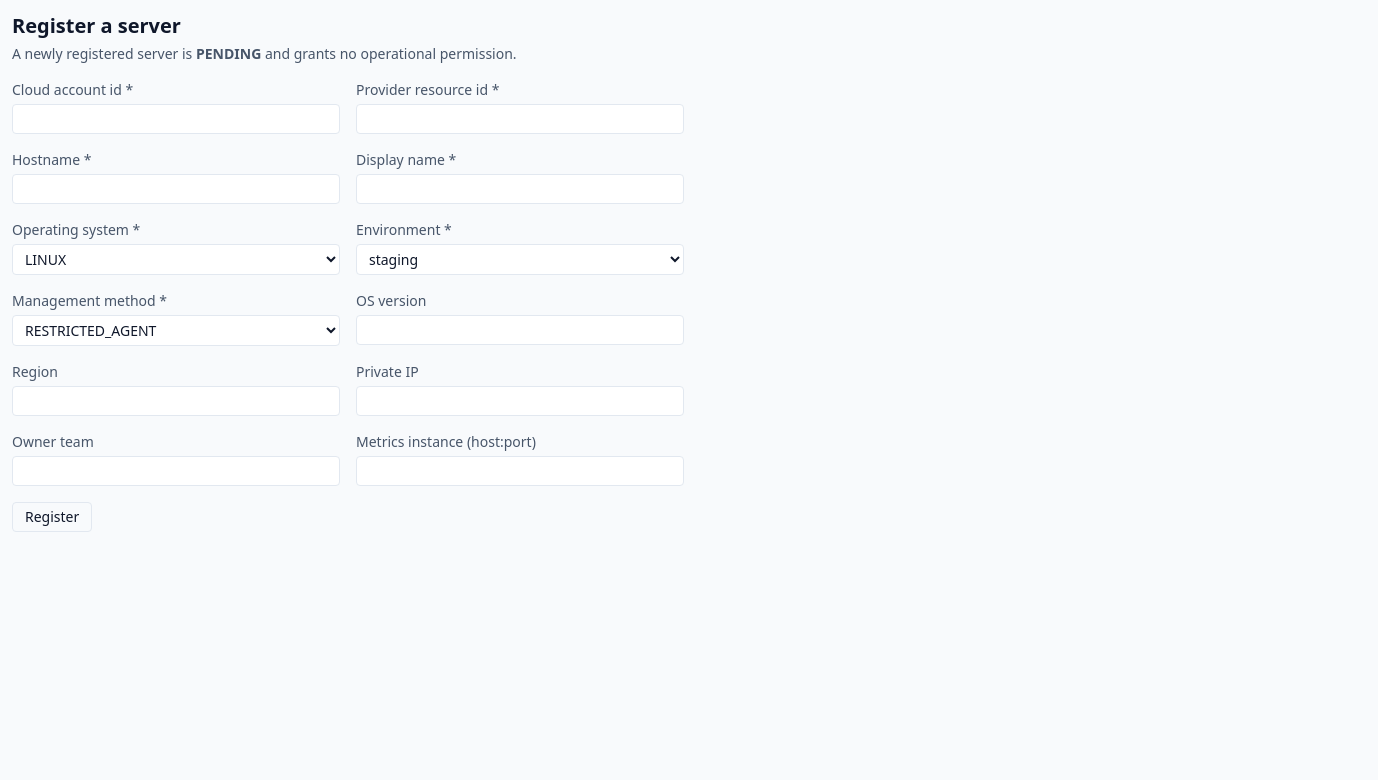
Test case: ServerForm › reports a duplicate as a conflict rather than a field problem
Type "a1" into the field labelled "Cloud account id *" at (176, 119), box [12, 104, 340, 134]
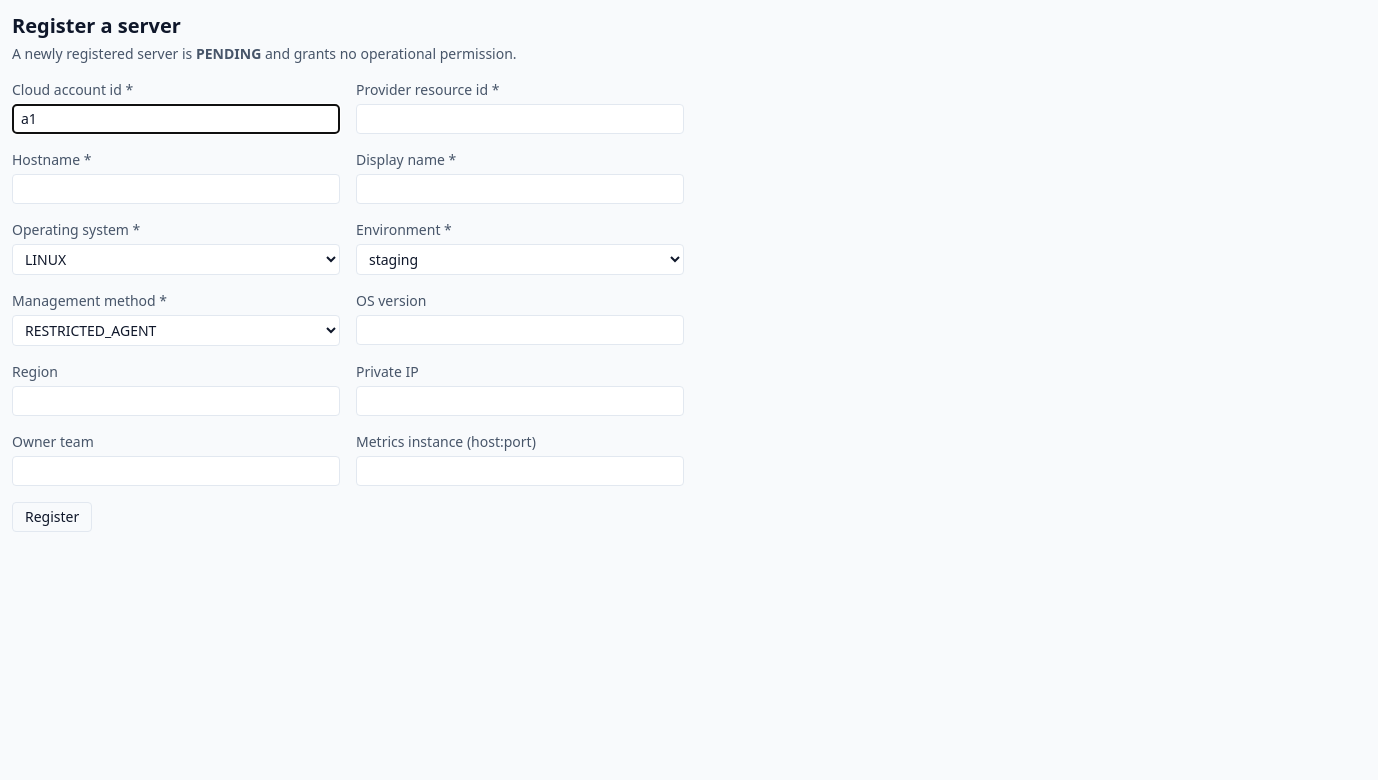
Type "host-1" into the field labelled "Provider resource id *" at (520, 119), box [356, 104, 684, 134]
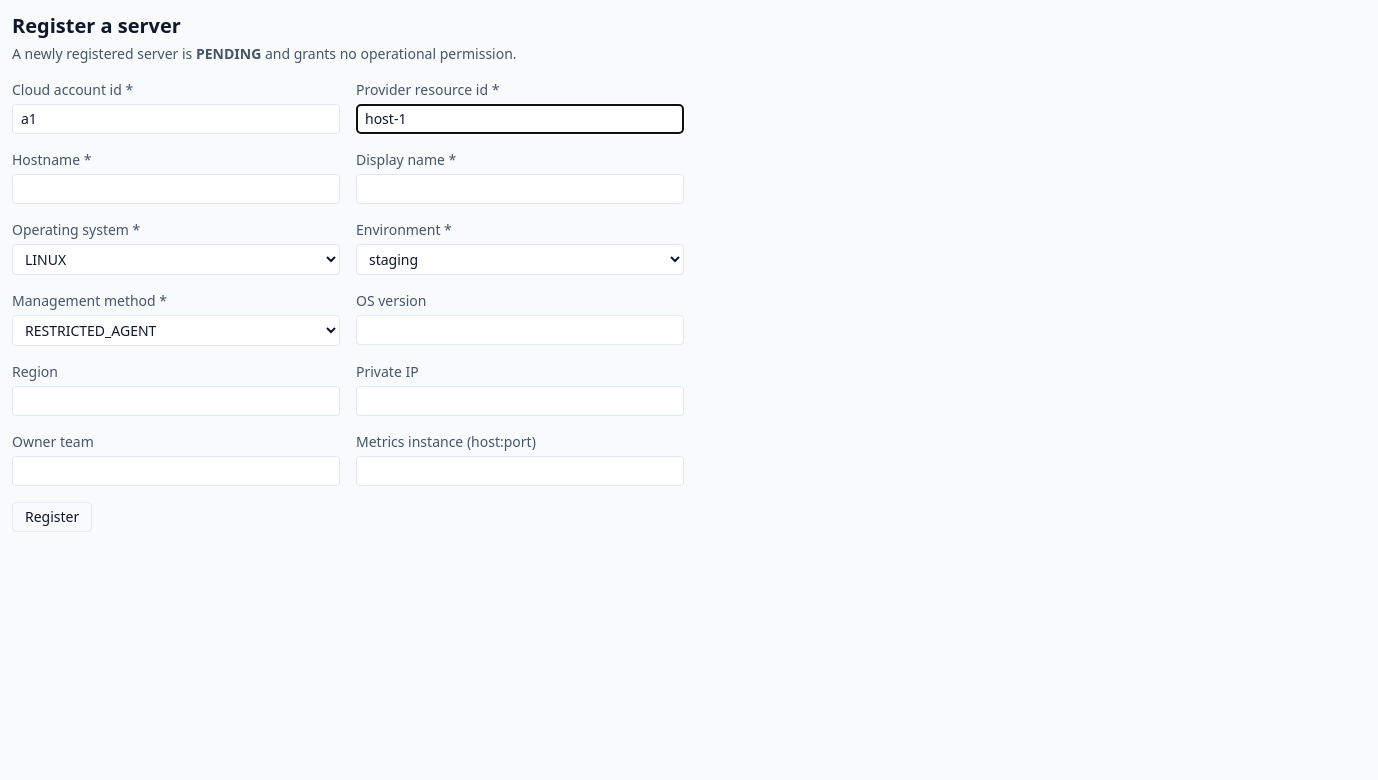
Type "web-01.internal.example" into the field labelled "Hostname *" at (176, 189), box [12, 174, 340, 204]
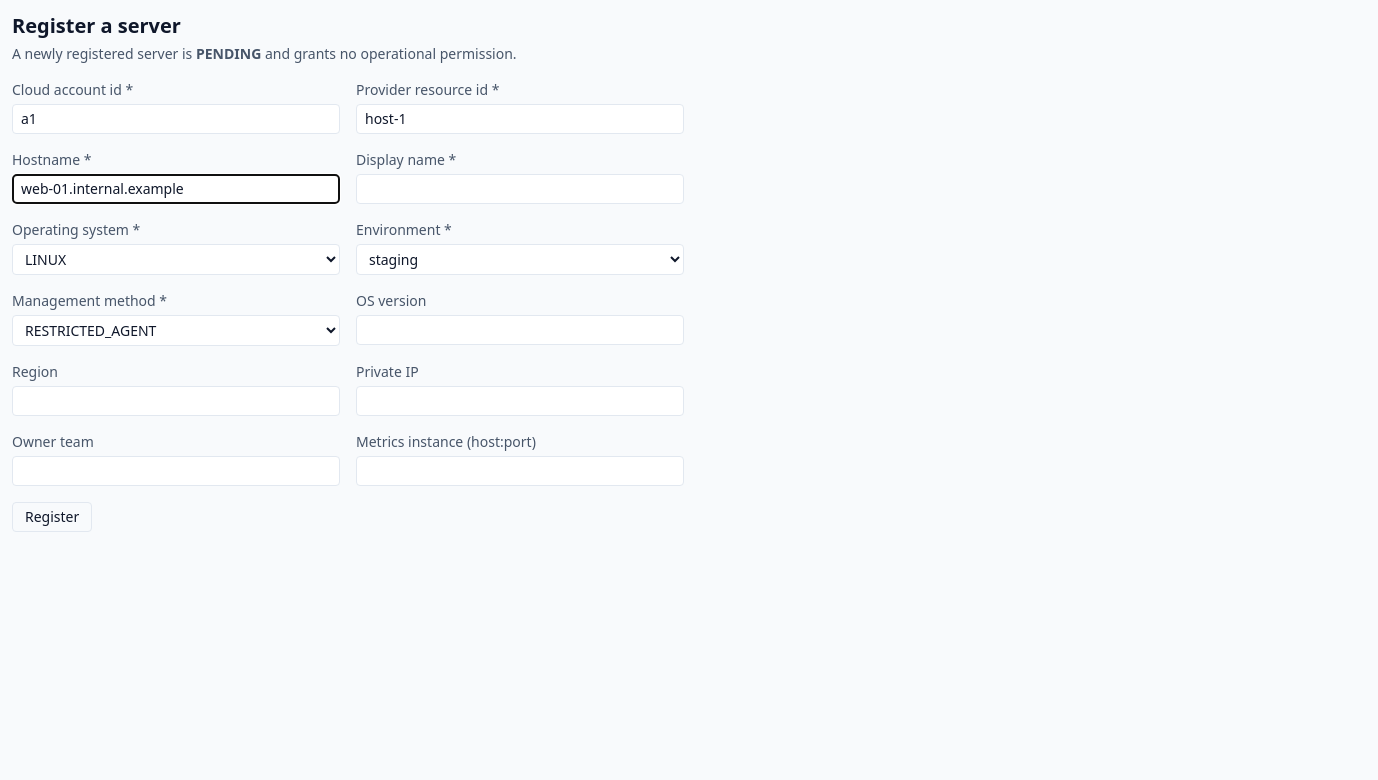
Type "Web 01" into the field labelled "Display name *" at (520, 189), box [356, 174, 684, 204]
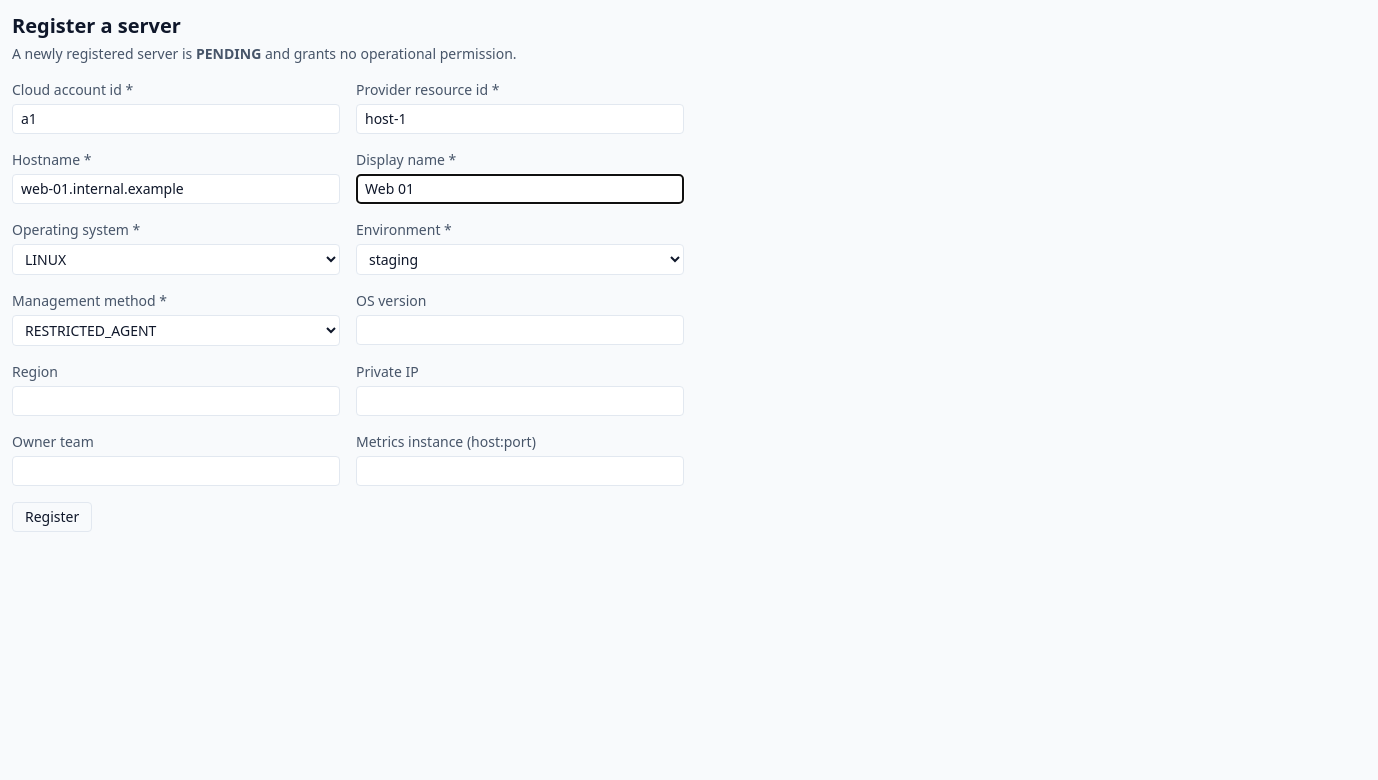
Click the button "Register" at (52, 517), box [12, 502, 92, 532]
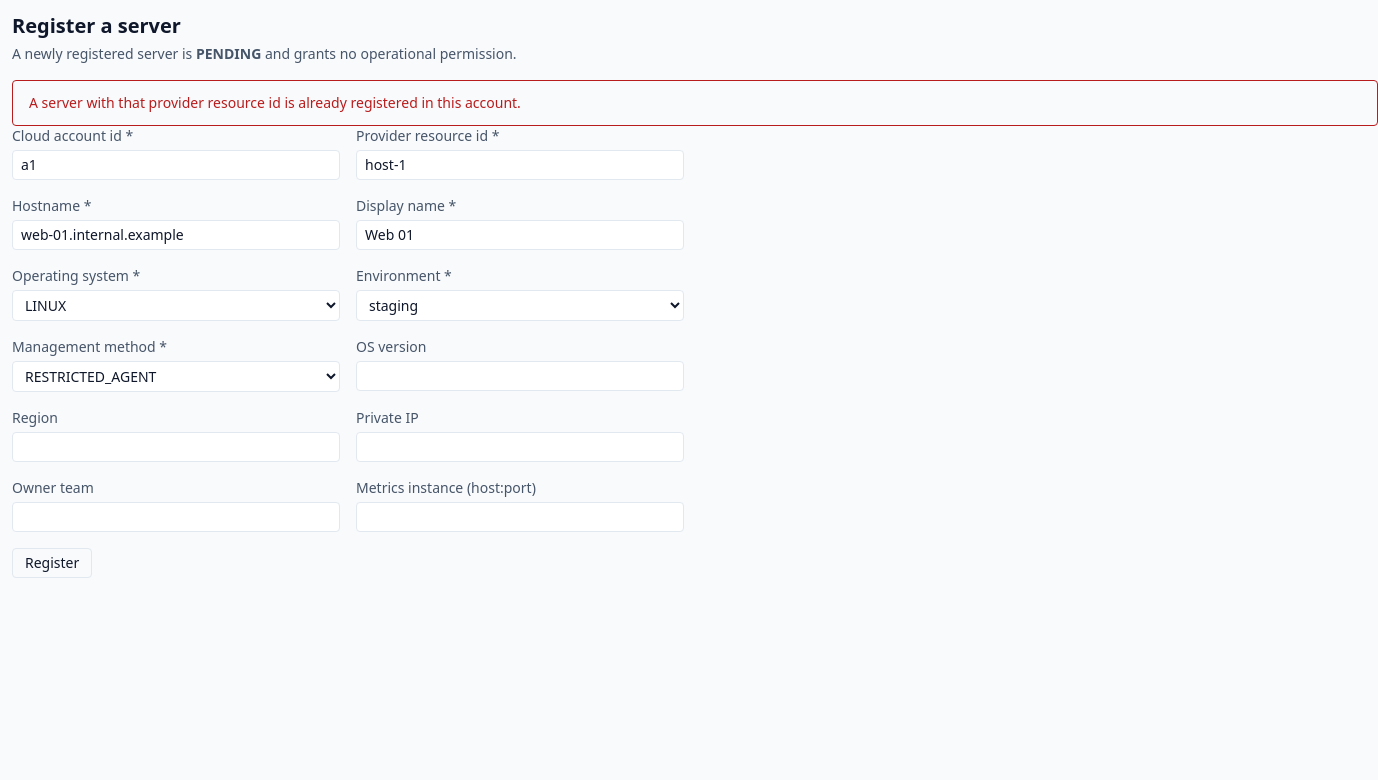
Expected: the message shows "already registered", [29, 93, 521, 112]
